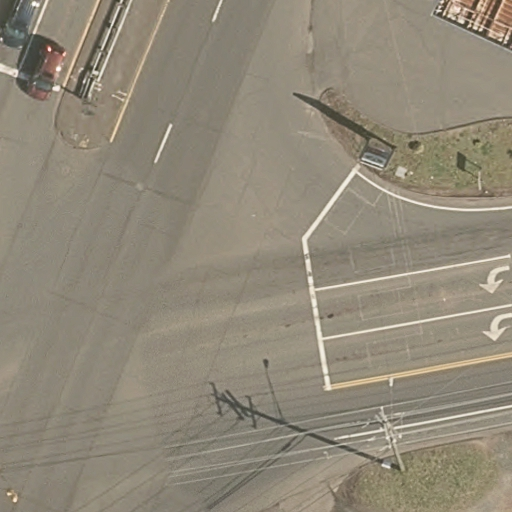DT: (346, 369, 423, 482)
